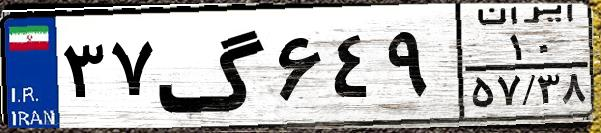0: (537, 27, 568, 80)
1: (508, 27, 537, 80)
3: (57, 26, 110, 100), (535, 70, 560, 125)
4: (330, 28, 385, 110)
5: (470, 70, 495, 125)
6: (270, 28, 330, 110)
7: (110, 28, 156, 98), (495, 70, 520, 125)
8: (560, 70, 590, 125)
9: (385, 28, 445, 110)
گ: (156, 12, 270, 120)
